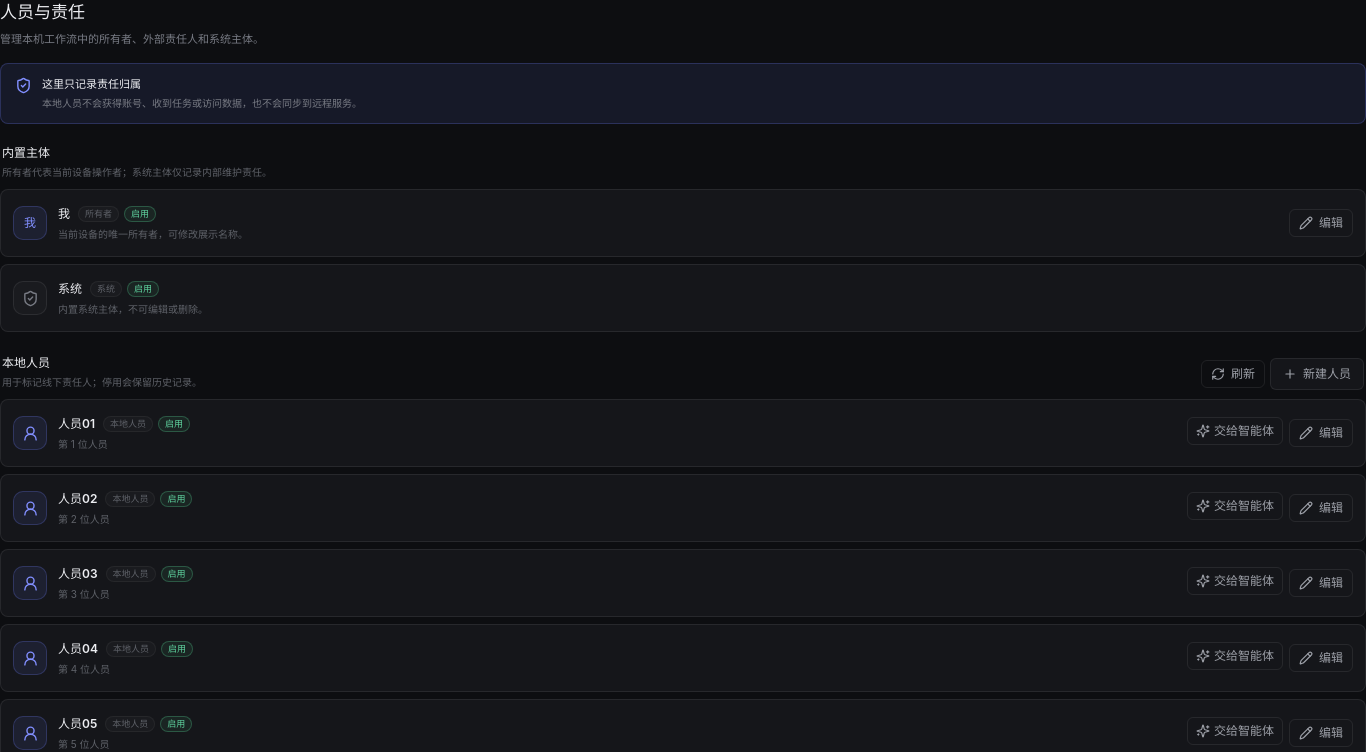
ActorSettings › locks paging while editing and renders the refetched update
Check: the text "人员01" is shown, box x1=58 y1=415 x2=95 y2=433
Click the button with aria-label "编辑人员01".
click(1321, 433)  # box x1=1289 y1=419 x2=1353 y2=447
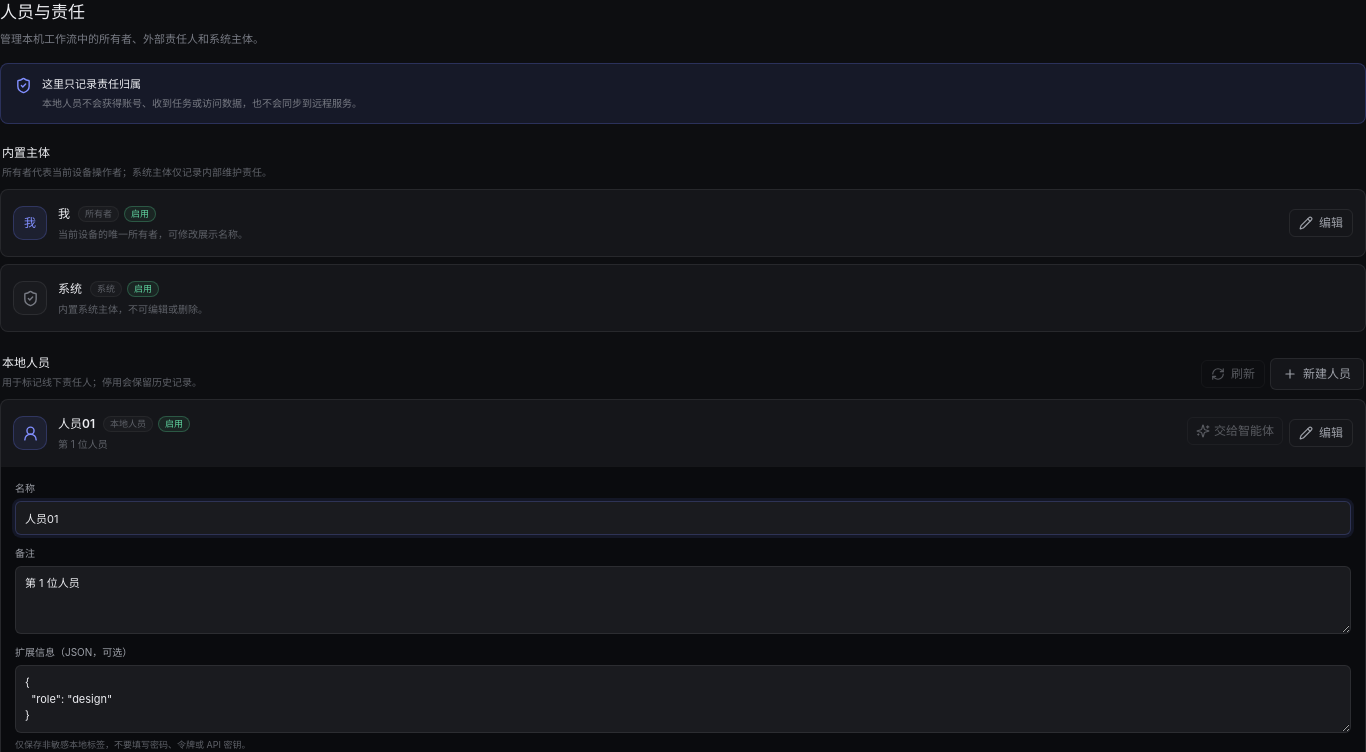
Replace the text in the field named "编辑人员01的名称" with "人员01-已停用" at (683, 518), box x1=15 y1=501 x2=1351 y2=535
(page scrolled)
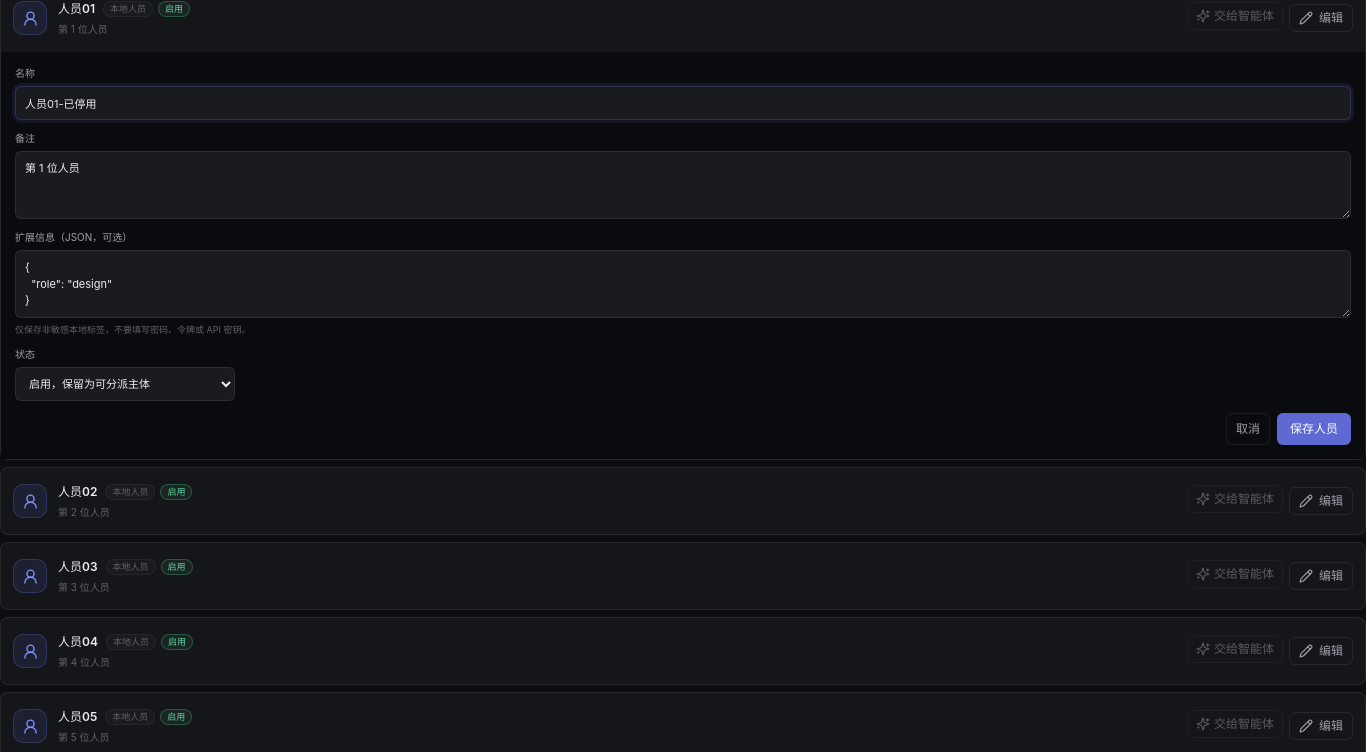
Select "停用，排除后续新分派" in the dropdown named "编辑人员01的状态" at (125, 384), box x1=15 y1=367 x2=235 y2=401
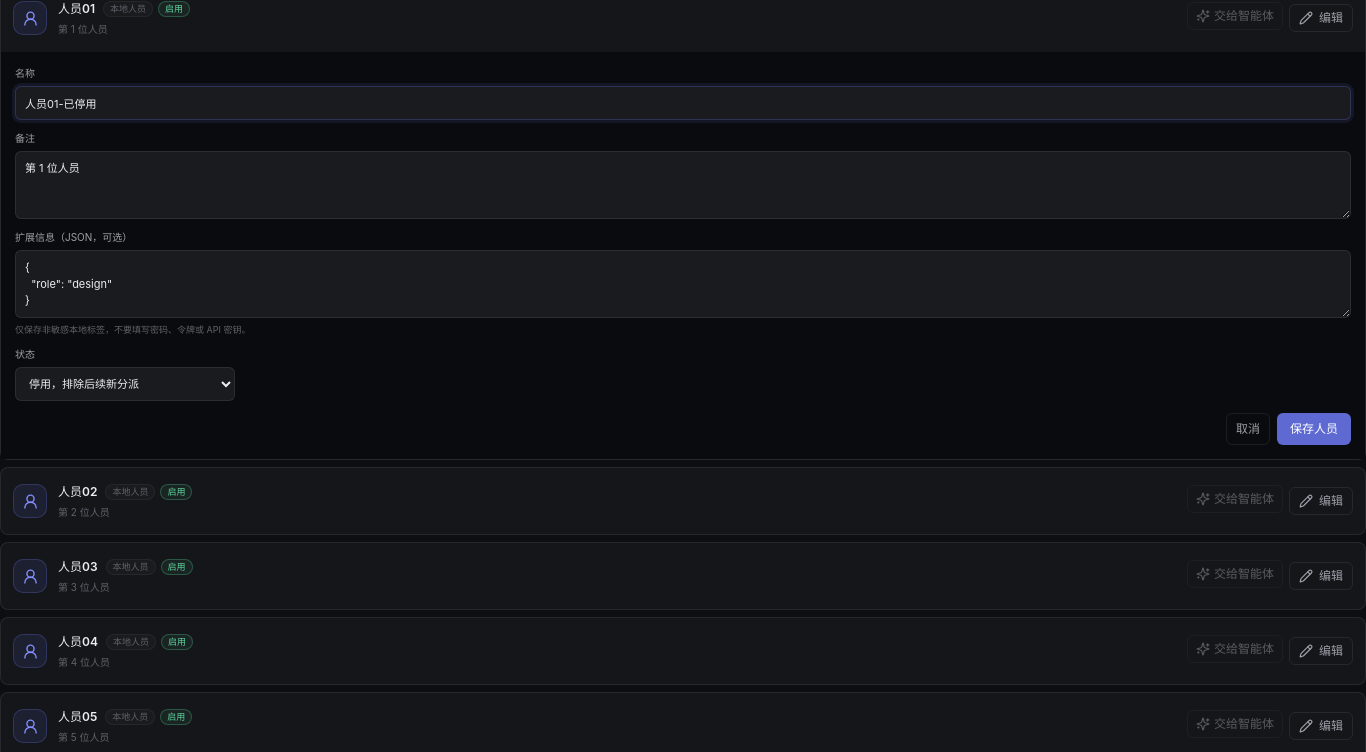
Click the button "保存人员".
click(1314, 429)  # box x1=1277 y1=413 x2=1351 y2=445
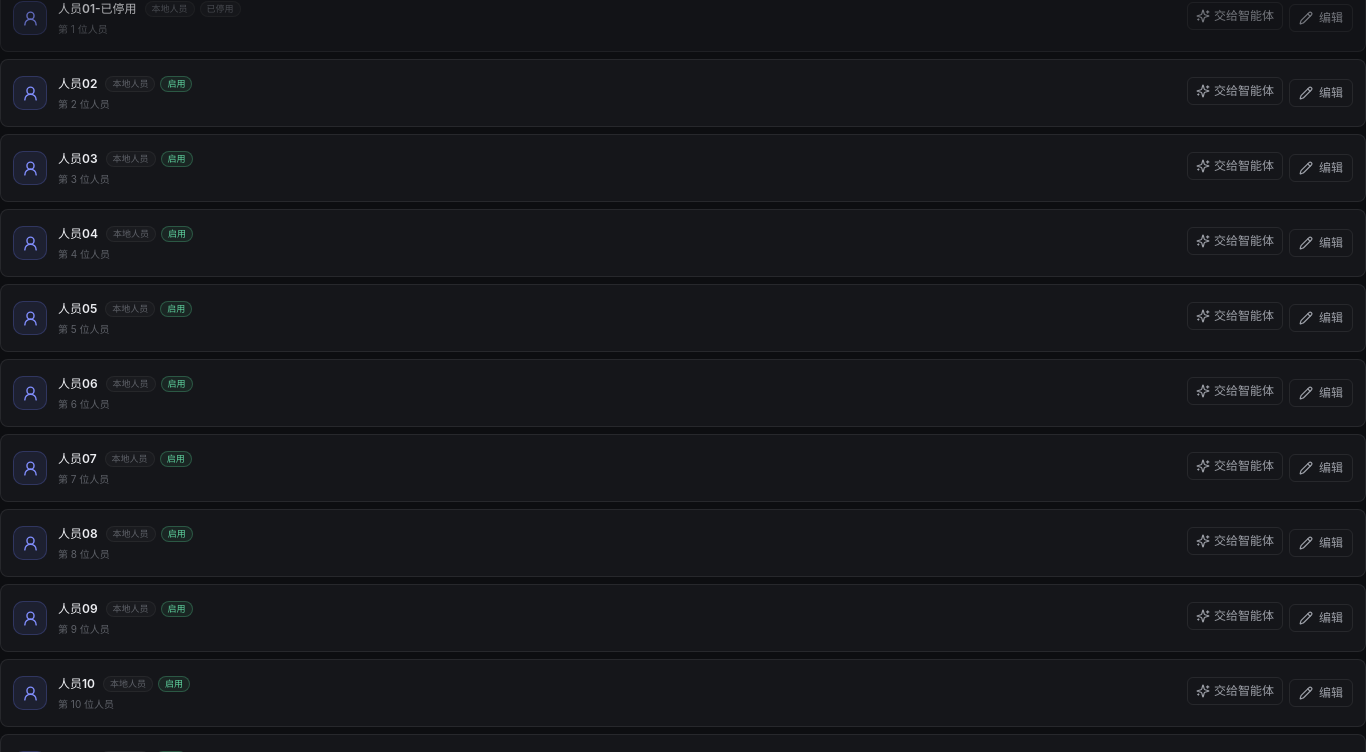
Check: the text "人员01-已停用" is shown, box x1=58 y1=0 x2=137 y2=18
Check: the field labelled "编辑人员01的名称" is gone
